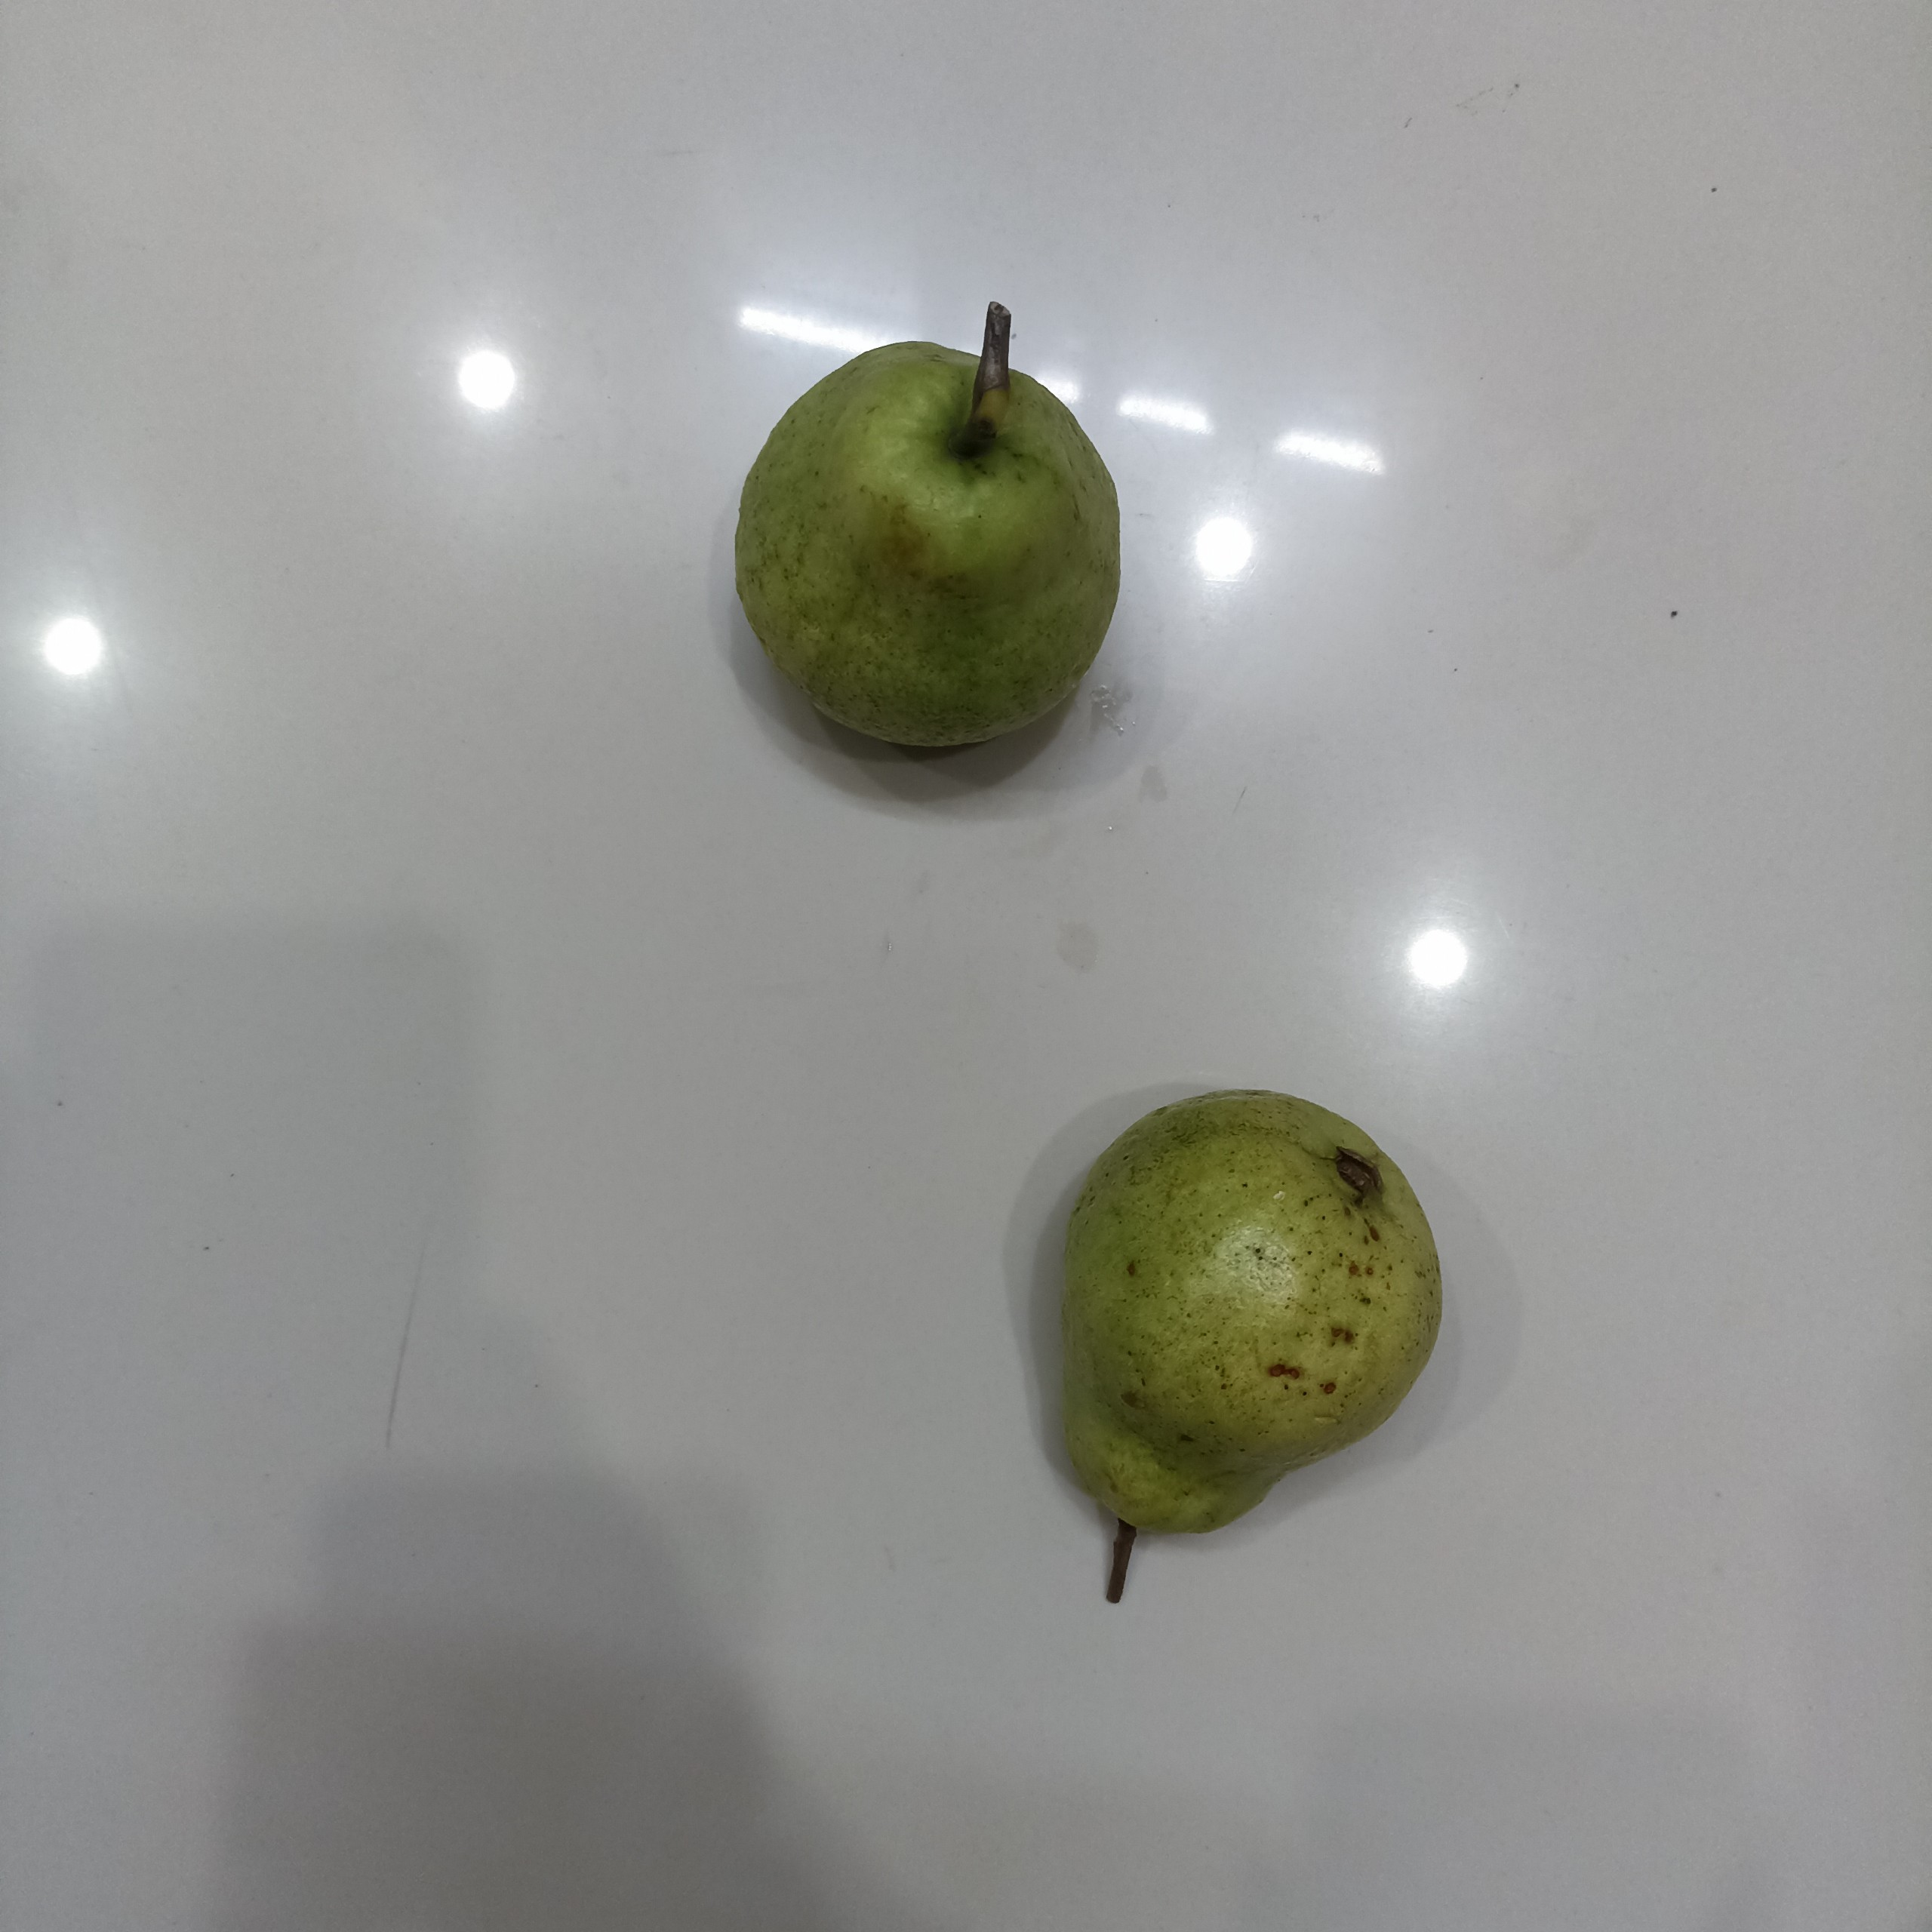Oi: (1053, 1079, 1445, 1548), (736, 341, 1123, 752)
